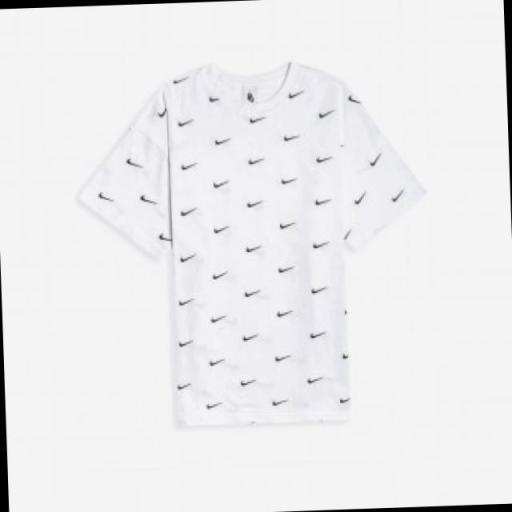Nike: (246, 154, 266, 167)
